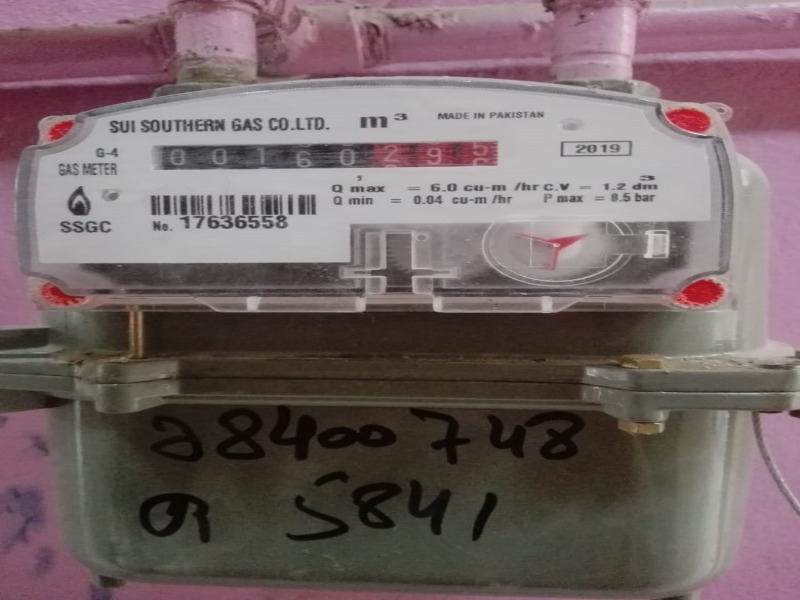ssgc: (146, 140, 500, 169)
